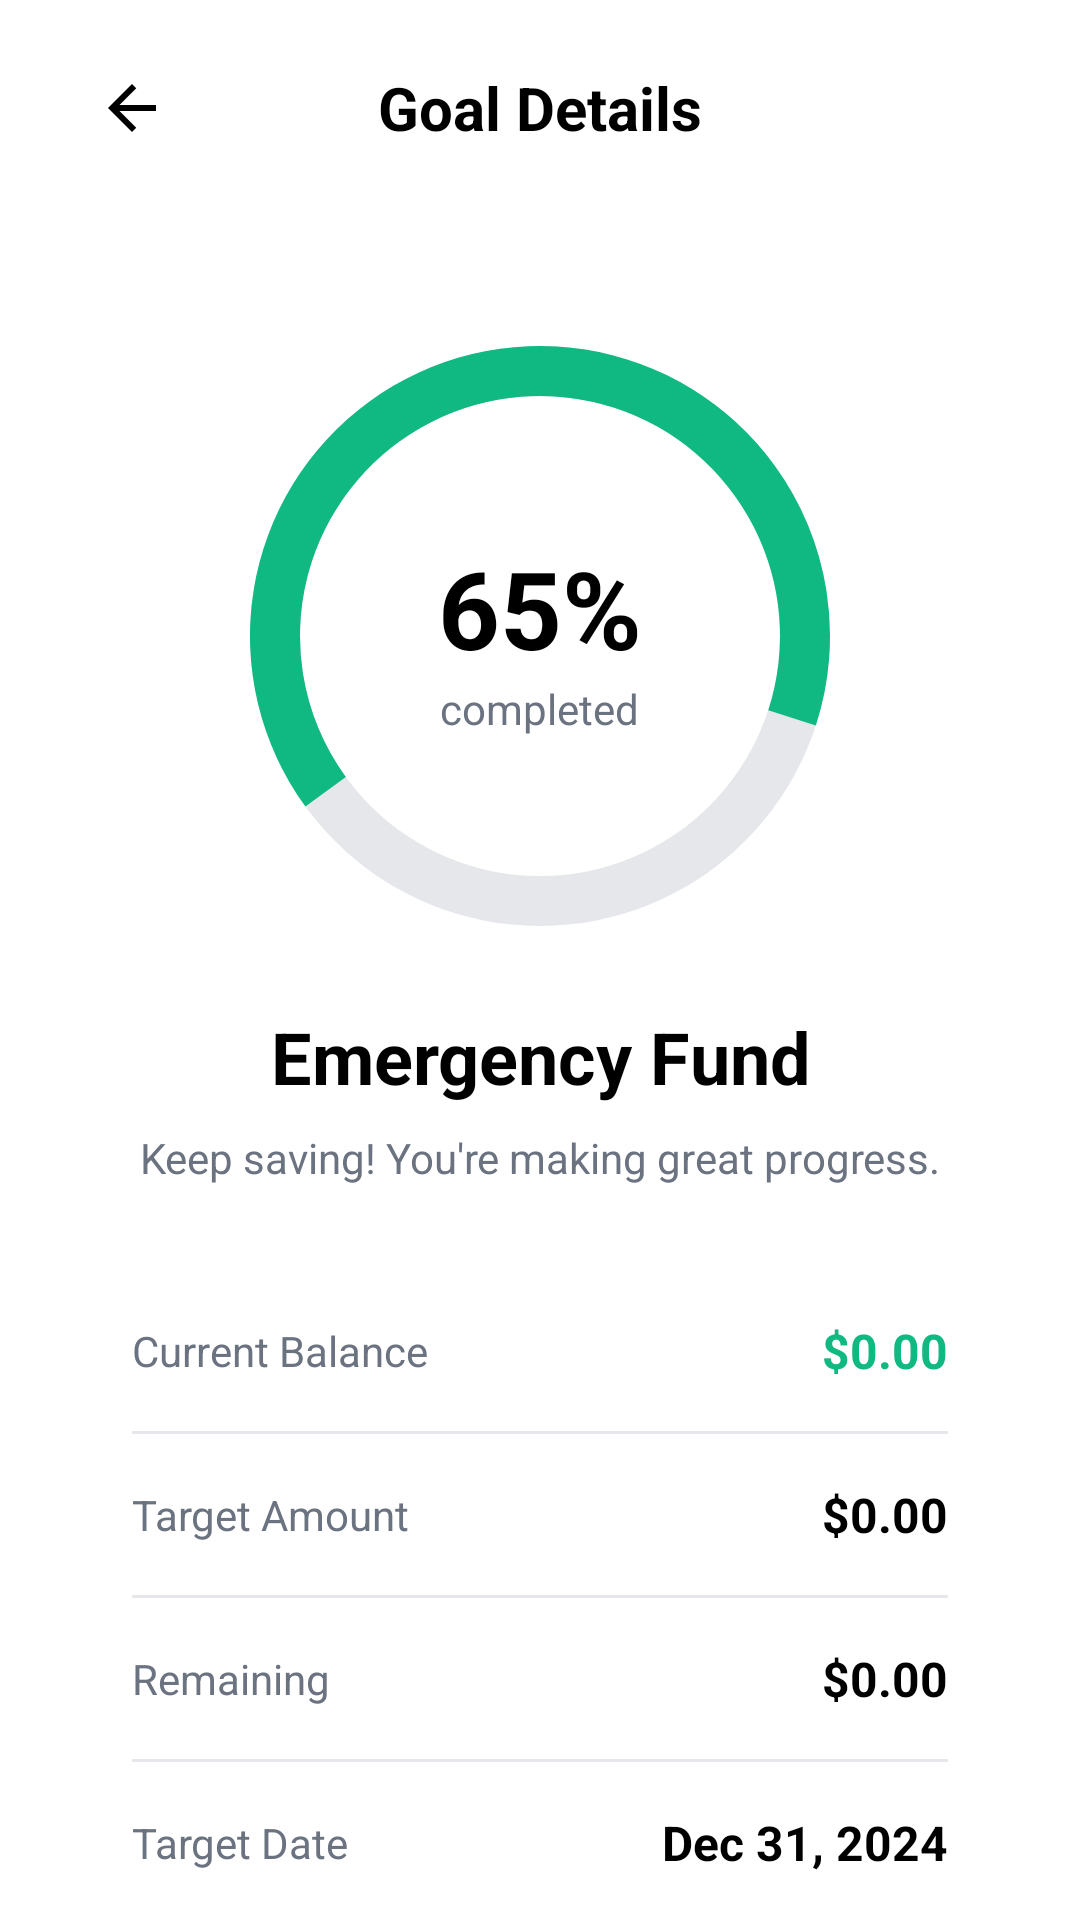

Screen size 1080 × 1920. Icon name, then its box in pixels as (x1=x1, y1=y1, x2=x2, y2=y2):
Back: (x1=108, y1=84, x2=156, y2=132)
